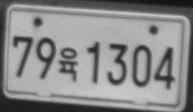0: (130, 44, 152, 88)
1: (83, 40, 106, 84)
3: (106, 42, 128, 85)
4: (153, 46, 176, 90)
7: (12, 34, 33, 77)
9: (35, 36, 56, 79)
육: (56, 46, 79, 81)
